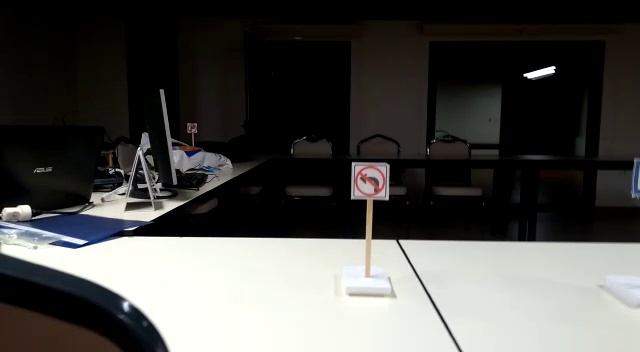sola_donulmez: (352, 162, 390, 202)
